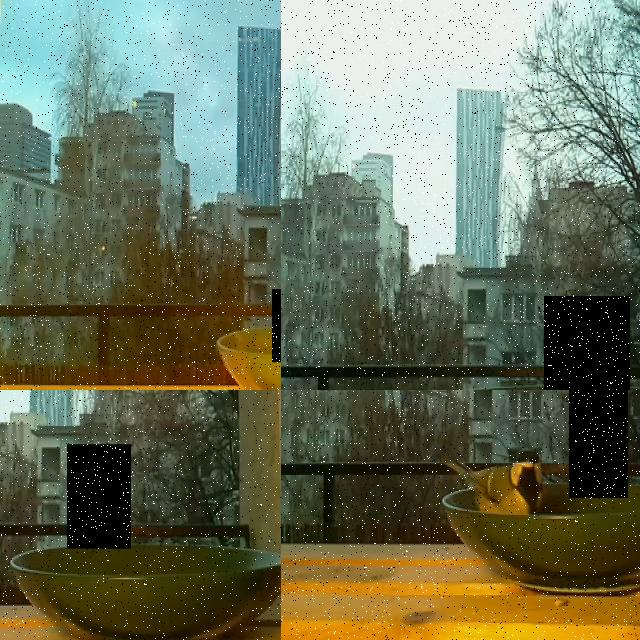Bogatka: (442, 447, 552, 520), (67, 444, 131, 548), (569, 390, 628, 497)
Wrobel: (544, 295, 630, 390)
